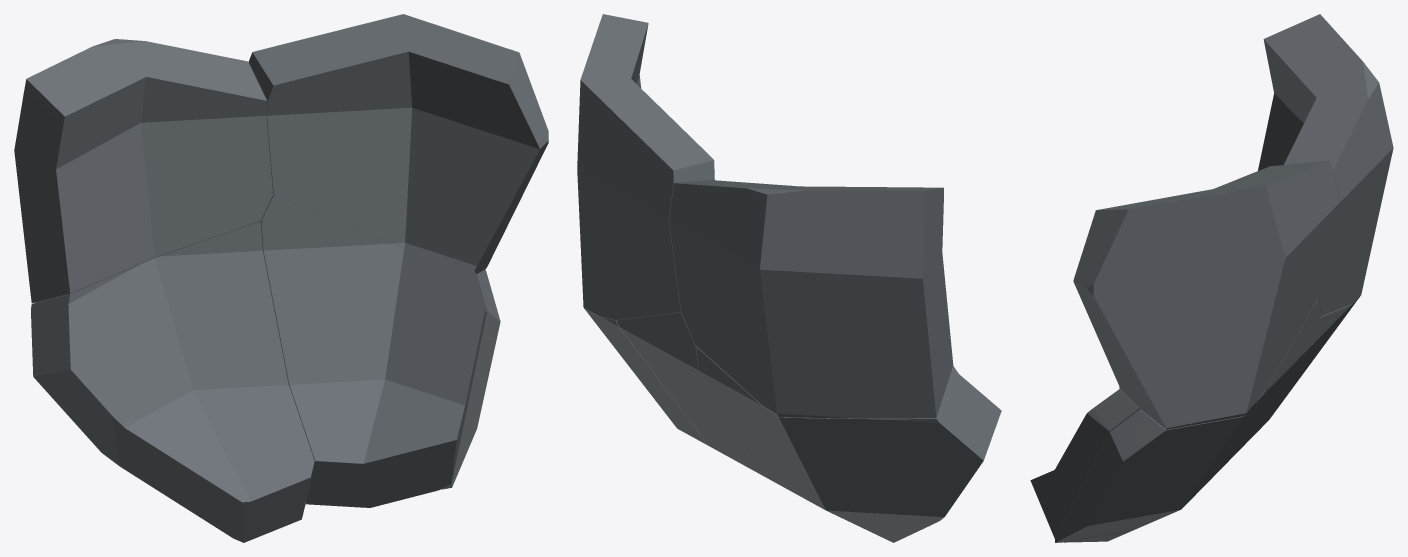
The model's file is Sphere_Fracture_01.DAE.
The picture shows the model from 3 angles, left to right: view 1: azimuth 30°, elevation 25°; view 2: azimuth 150°, elevation 25°; view 3: azimuth 270°, elevation 25°; orthographic projection. The views are drawn at different scales.
Parts seen in each view (by area): view 1: Sphere_Fracture_01; view 2: Sphere_Fracture_01; view 3: Sphere_Fracture_01.
Part boxes in pixels (x1,y1,x2,y2): Sphere_Fracture_01: (14,14,548,542); Sphere_Fracture_01: (577,14,1001,542); Sphere_Fracture_01: (1030,14,1393,542).
Size of the model in its own units: 1.4 by 1.32 by 1.01.
2 materials, 2 textured.
